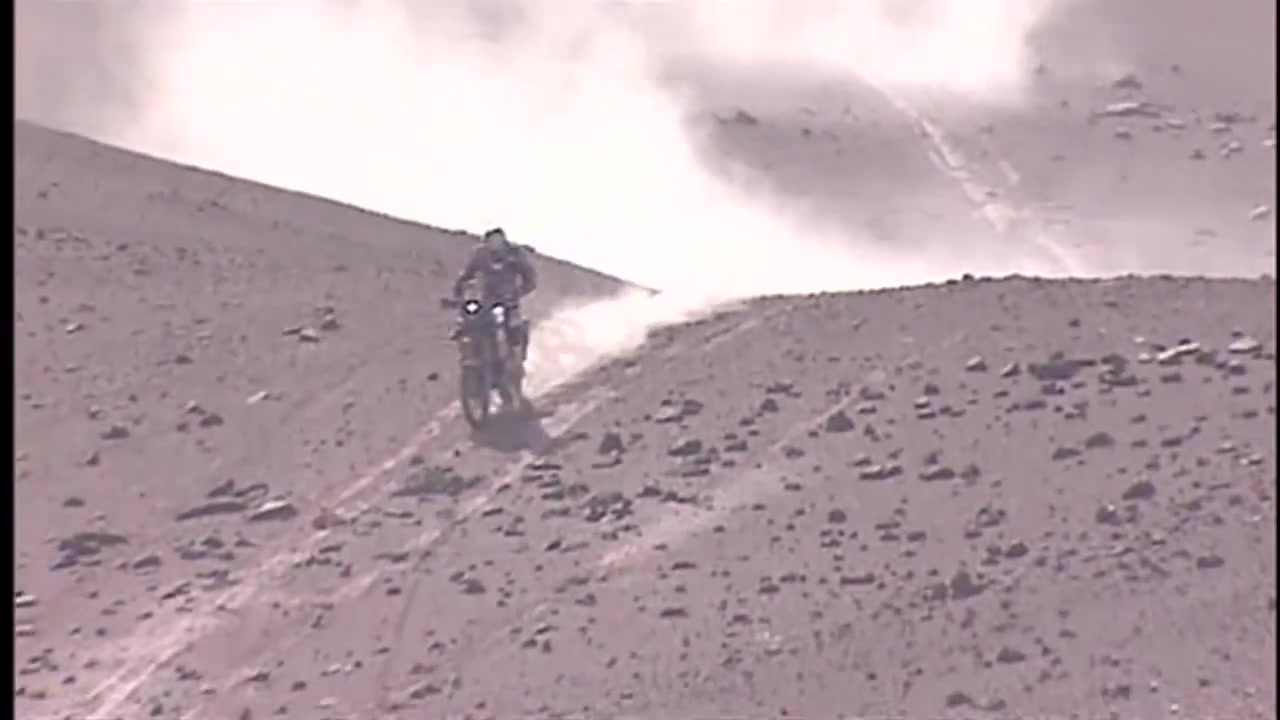motorbike: (438, 288, 533, 428)
